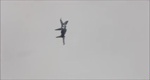maybay_muctieu: (54, 17, 68, 46)
